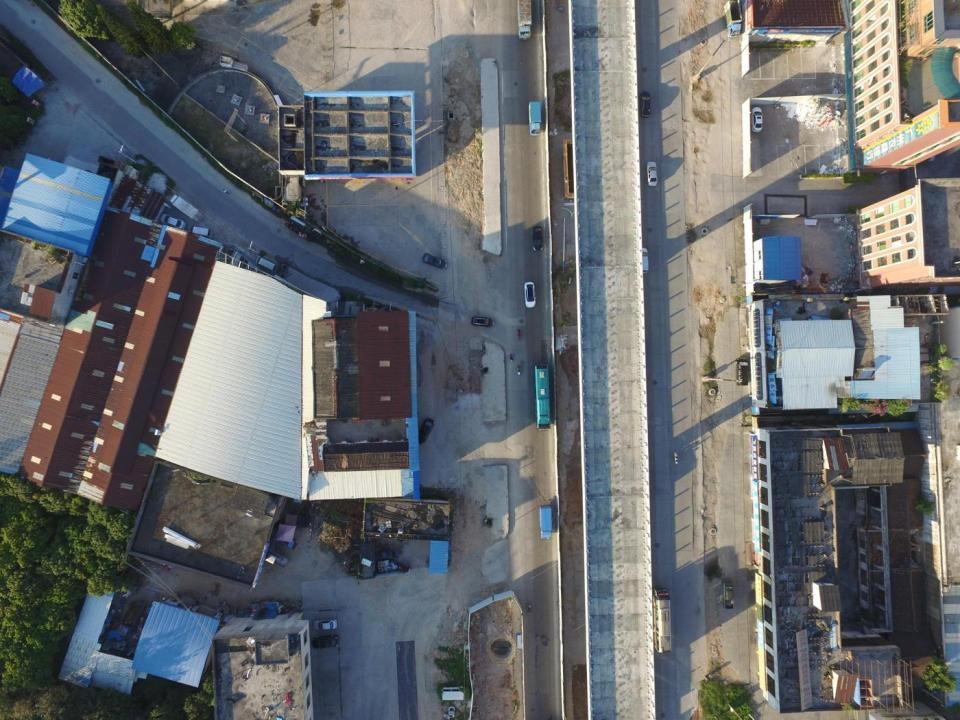bus: (652, 587, 673, 653), (534, 362, 552, 433)
car: (416, 416, 434, 445), (311, 634, 340, 650), (421, 253, 448, 270), (161, 214, 185, 231), (638, 90, 652, 118), (312, 618, 338, 631), (750, 106, 763, 132), (645, 161, 658, 187), (524, 281, 536, 308), (470, 316, 494, 329), (532, 226, 543, 252)
truck: (169, 193, 204, 221), (724, 0, 742, 37), (516, 0, 532, 41), (538, 503, 552, 540), (527, 100, 541, 137), (721, 578, 735, 610)
van: (255, 255, 278, 274), (736, 358, 749, 386), (191, 224, 213, 240), (637, 247, 649, 274)
